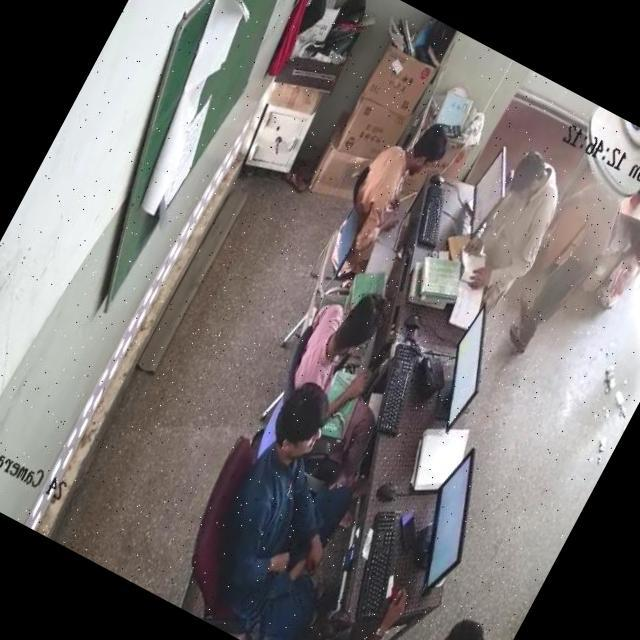person: (175, 372, 393, 640), (502, 176, 631, 373), (454, 138, 578, 309), (346, 100, 460, 254), (294, 270, 396, 394), (291, 573, 406, 640), (363, 590, 495, 640)
